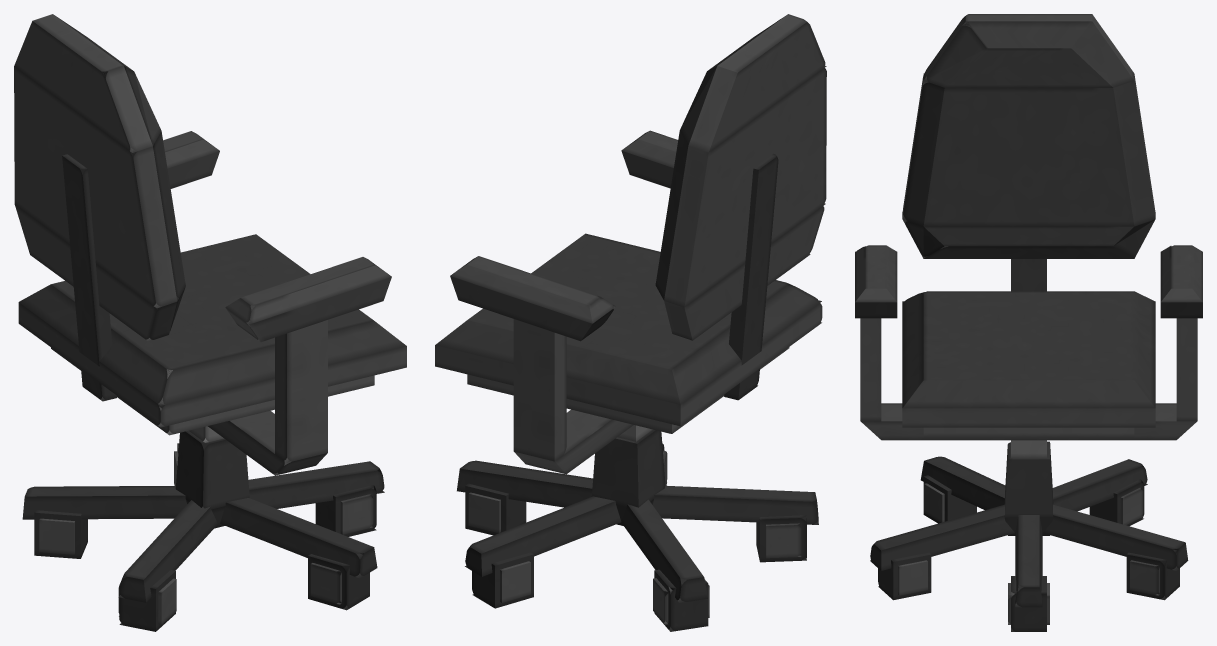
The model's file is officechair.obj.
The picture shows the model from 3 angles, left to right: view 1: azimuth 30°, elevation 25°; view 2: azimuth 150°, elevation 25°; view 3: azimuth 270°, elevation 25°; orthographic projection. The views are drawn at different scales.
Visible parts, largest first — view 1: bodyModel27, bodyModel21, bodyModel24, bodyModel0, bodyModel30, bodyModel3, bodyModel6, bodyModel9, bodyModel26, bodyModel4, bodyModel33, bodyModel7 (+16 smaller); view 2: bodyModel27, bodyModel21, bodyModel24, bodyModel0, bodyModel28, bodyModel3, bodyModel8, bodyModel7, bodyModel26, bodyModel4, bodyModel32, bodyModel10 (+16 smaller); view 3: bodyModel22, bodyModel27, bodyModel23, bodyModel25, bodyModel0, bodyModel8, bodyModel6, bodyModel29, bodyModel4, bodyModel9, bodyModel10, bodyModel7 (+20 smaller).
Boxes of the visible parts, left/top/right/bottom form: bodyModel27: left=19, top=234, right=406, bottom=405; bodyModel21: left=14, top=66, right=177, bottom=308; bodyModel24: left=14, top=14, right=152, bottom=152; bodyModel0: left=18, top=302, right=406, bottom=427; bodyModel30: left=275, top=320, right=327, bottom=462; bodyModel3: left=62, top=154, right=116, bottom=401; bodyModel6: left=220, top=498, right=377, bottom=578; bodyModel9: left=22, top=485, right=187, bottom=519; bodyModel26: left=15, top=205, right=176, bottom=341; bodyModel4: left=175, top=431, right=249, bottom=509; bodyModel33: left=225, top=257, right=391, bottom=324; bodyModel7: left=118, top=500, right=217, bottom=602; bodyModel27: left=435, top=233, right=821, bottom=404; bodyModel21: left=664, top=68, right=826, bottom=307; bodyModel24: left=688, top=14, right=826, bottom=152; bodyModel0: left=435, top=303, right=822, bottom=426; bodyModel28: left=513, top=319, right=566, bottom=461; bodyModel3: left=724, top=154, right=778, bottom=400; bodyModel8: left=465, top=496, right=621, bottom=576; bodyModel7: left=652, top=485, right=818, bottom=524; bodyModel26: left=664, top=206, right=824, bottom=340; bodyModel4: left=591, top=429, right=665, bottom=507; bodyModel32: left=450, top=256, right=615, bottom=323; bodyModel10: left=457, top=460, right=592, bottom=507; bodyModel22: left=903, top=81, right=1155, bottom=226; bodyModel27: left=902, top=291, right=1155, bottom=408; bodyModel23: left=924, top=21, right=1133, bottom=87; bodyModel25: left=905, top=219, right=1155, bottom=258; bodyModel0: left=902, top=408, right=1155, bottom=427; bodyModel8: left=1043, top=504, right=1188, bottom=570; bodyModel6: left=870, top=504, right=1014, bottom=570; bodyModel29: left=861, top=403, right=1196, bottom=440; bodyModel4: left=1004, top=441, right=1053, bottom=517; bodyModel9: left=1052, top=459, right=1147, bottom=511; bodyModel10: left=1015, top=515, right=1042, bottom=607; bodyModel7: left=920, top=456, right=1005, bottom=509.
Bounding box in the file's own units: 15.09 × 25.64 × 16.5.
